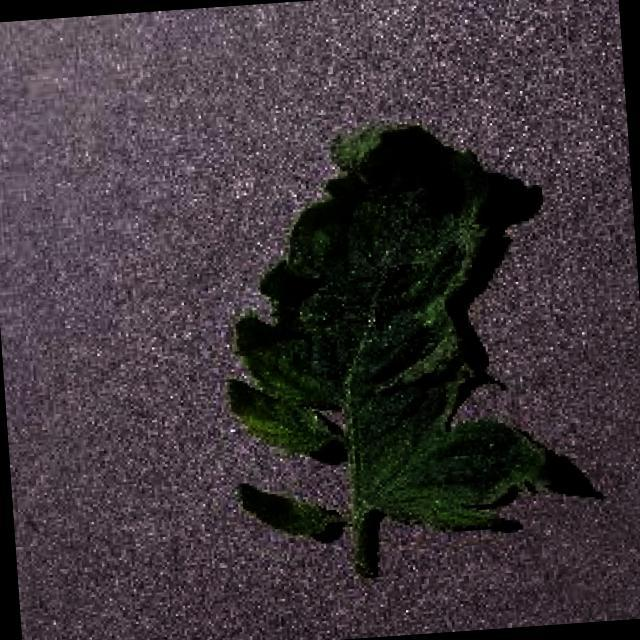Tomato mosaic virus leaf: (208, 105, 555, 550)
